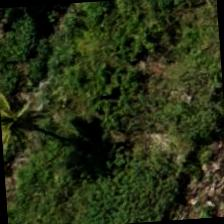Kelapa_Sawit: (0, 64, 53, 158)
